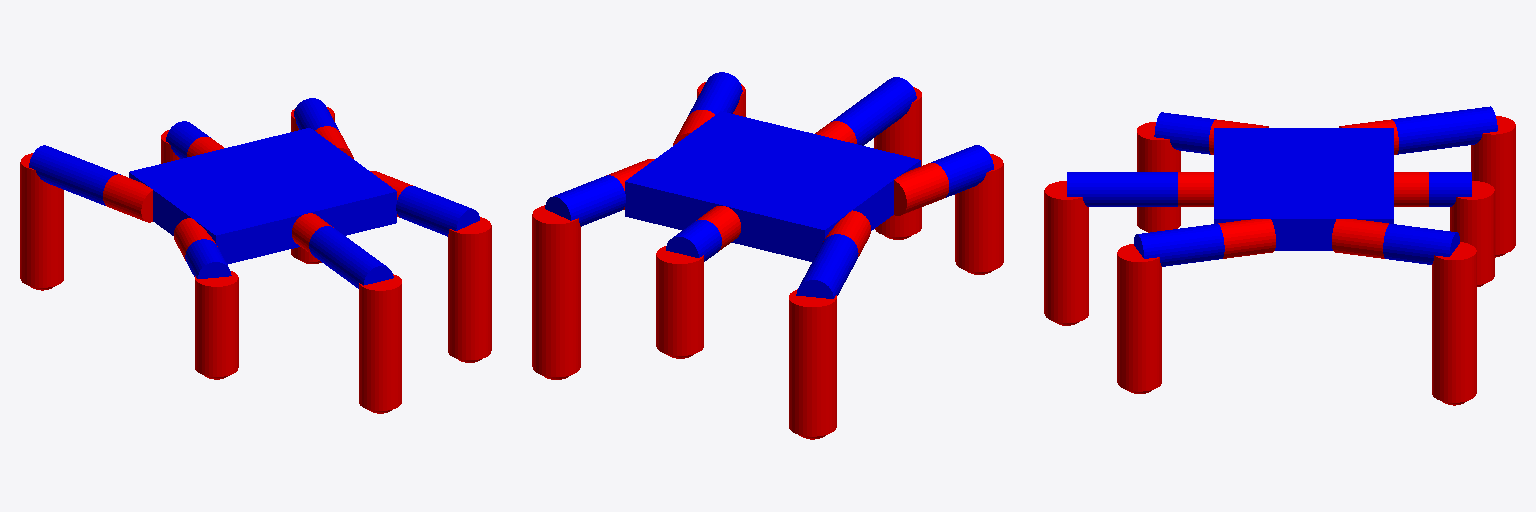
--- Facts derived from the render (not from the file) ---
The picture shows the robot from 3 angles, left to right: view 1: azimuth 30°, elevation 25°; view 2: azimuth 150°, elevation 25°; view 3: azimuth 270°, elevation 25°; orthographic projection.
Model pexod with 19 links and 18 joints (18 revolute), rooted at base_link, posed all joints at 0.
Links seen in each view (by area): view 1: base_link, leg_3_3, leg_4_3, leg_0_3, leg_5_3, leg_0_2, leg_4_2, leg_3_2, leg_0_1, leg_5_2, leg_2_2, leg_1_2 (+2 smaller); view 2: base_link, leg_2_3, leg_0_3, leg_1_3, leg_5_3, leg_4_2, leg_4_3, leg_2_2, leg_0_2, leg_5_1, leg_5_2, leg_1_2 (+5 smaller); view 3: base_link, leg_2_3, leg_3_3, leg_4_3, leg_0_3, leg_4_2, leg_0_2, leg_1_3, leg_3_2, leg_5_3, leg_2_2, leg_3_1 (+5 smaller).
Link boxes in pixels (x1,y1,x2,y2): base_link: (129,128,396,264); leg_3_3: (448,217,491,362); leg_4_3: (359,274,401,413); leg_0_3: (20,153,63,290); leg_5_3: (195,271,238,379); leg_0_2: (29,145,120,205); leg_4_2: (309,226,393,288); leg_3_2: (396,186,479,236); leg_0_1: (103,174,152,222); leg_5_2: (185,239,231,278); leg_2_2: (294,98,339,131); leg_1_2: (166,121,210,158); base_link: (625,111,920,261); leg_2_3: (532,205,580,379); leg_0_3: (789,289,836,439); leg_1_3: (656,246,703,358); leg_5_3: (955,153,1003,274); leg_4_2: (831,77,916,145); leg_4_3: (874,87,921,239); leg_2_2: (545,175,625,226); leg_0_2: (796,234,858,298); leg_5_1: (894,163,948,215); leg_5_2: (931,145,993,197); leg_1_2: (666,220,721,261); base_link: (1214,128,1393,250); leg_2_3: (1432,242,1476,405); leg_3_3: (1117,244,1161,393); leg_4_3: (1044,181,1088,325); leg_0_3: (1471,116,1515,257); leg_4_2: (1067,172,1177,206); leg_0_2: (1392,106,1497,154); leg_1_3: (1450,181,1494,286); leg_3_2: (1134,224,1224,266); leg_5_3: (1137,122,1180,232); leg_2_2: (1383,224,1459,264); leg_3_1: (1218,219,1275,258).
Size in the robot's own frame: 0.3871 by 0.5257 by 0.2078 metres.
Geometry: primitives only (box / cylinder / sphere), no mesh files.

The robot description file, URDF, robot "pexod":
<?xml version="1.0" ?>
<!-- =================================================================================== -->
<!-- |    This document was autogenerated by xacro from pexod.xacro                    | -->
<!-- |    EDITING THIS FILE BY HAND IS NOT RECOMMENDED                                 | -->
<!-- =================================================================================== -->
<robot name="pexod" xmlns:xacro="http://www.ros.org/wiki/xacro">
  <!-- <xacro:include filename="$(find pexod_description)/urdf/pexod_control.xacro" /> -->
  <!-- MATERIALS -->
  <material name="Blue">
    <color rgba="0 0 1 1"/>
  </material>
  <material name="Red">
    <color rgba="1 0 0 1"/>
  </material>
  <material name="Green">
    <color rgba="0 1 0 1"/>
  </material>
  <material name="Yellow">
    <color rgba="1 1 0 1"/>
  </material>
  <material name="LightGrey">
    <color rgba="0.6 0.6 0.6 1.0"/>
  </material>
  <!-- END OF MATERIALS -->
  <!-- XACRO MACROS FOR VISUALS AND COLLISIONS -->
  <!-- END OF XACRO MACROS -->
  <!-- TORSO -->
  <link name="base_link">
    <visual>
      <origin rpy="0 0 0" xyz="0 0 0"/>
      <geometry>
        <box size="0.24 0.2 0.04"/>
      </geometry>
      <material name="Blue"/>
    </visual>
    <collision>
      <origin rpy="0 0 0" xyz="0 0 0"/>
      <geometry>
        <box size="0.24 0.2 0.04"/>
      </geometry>
    </collision>
    <inertial>
      <!-- CENTER OF MASS -->
      <origin rpy="0 0 0" xyz="0 0 0"/>
      <mass value="1.031"/>
      <!-- box inertia: 1/12*m(y^2+z^2), ... -->
      <inertia ixx="0.00357413333333" ixy="0" ixz="0" iyy="0.00508626666667" iyz="0" izz="0.00838546666667"/>
    </inertial>
  </link>
  <!-- XACRO MACRO FOR LEGS LINKS/JOINTS -->
  <!-- END OF LEG LINKS/JOINTS -->
  <joint name="body_leg_2" type="revolute">
    <parent link="base_link"/>
    <child link="leg_2_1"/>
    <limit effort="30.0" lower="-1.57079632679" upper="1.57079632679" velocity="7.0"/>
    <origin rpy="0 0 -0.3" xyz="0.11 0.04 0"/>
    <!-- <xacro:if value="${index == 5 or index == 4 or index == 3}">
                <axis xyz="0 0 1"/>
            </xacro:if>
            <xacro:if value="${index == 2 or index == 1 or index == 0}"> -->
    <axis xyz="0 0 1"/>
    <!-- </xacro:if> -->
    <dynamics damping="0.0"/>
  </joint>
  <link name="leg_2_1">
    <visual>
      <origin rpy="1.57079632679 0 0" xyz="0.01 0.03 0"/>
      <geometry>
        <cylinder length="0.06" radius="0.02"/>
      </geometry>
      <material name="Red"/>
    </visual>
    <collision>
      <origin rpy="1.57079632679 0 0" xyz="0.01 0.03 0"/>
      <geometry>
        <box size="0.02 0.02 0.06"/>
      </geometry>
    </collision>
    <inertial>
      <!-- CENTER OF MASS -->
      <origin rpy="1.57079632679 0 0" xyz="0.01 0.03 0"/>
      <mass value="0.02"/>
      <!-- box inertia: 1/12*m(y^2+z^2), ... -->
      <inertia ixx="6.66666666667e-06" ixy="0" ixz="0" iyy="6.66666666667e-06" iyz="0" izz="1.33333333333e-06"/>
    </inertial>
  </link>
  <joint name="leg_2_1_2" type="revolute">
    <parent link="leg_2_1"/>
    <child link="leg_2_2"/>
    <limit effort="30.0" lower="-0.78539816339" upper="0.78539816339" velocity="7.0"/>
    <origin rpy="0 0 0" xyz="0 0.06 0"/>
    <axis xyz="1 0 0"/>
    <dynamics damping="0.0"/>
  </joint>
  <link name="leg_2_2">
    <visual>
      <origin rpy="1.57079632679 0 0" xyz="0.01 0.0388390807598 0"/>
      <geometry>
        <cylinder length="0.0776781615196" radius="0.02"/>
      </geometry>
      <material name="Blue"/>
    </visual>
    <collision>
      <origin rpy="1.57079632679 0 0" xyz="0.01 0.0388390807598 0"/>
      <geometry>
        <box size="0.02 0.02 0.0776781615196"/>
      </geometry>
    </collision>
    <inertial>
      <!-- CENTER OF MASS -->
      <origin rpy="1.57079632679 0 0" xyz="0.01 0.0388390807598 0"/>
      <mass value="0.184"/>
      <!-- box inertia: 1/12*m(y^2+z^2), ... -->
      <inertia ixx="9.8653083915e-05" ixy="0" ixz="0" iyy="9.8653083915e-05" iyz="0" izz="1.22666666667e-05"/>
    </inertial>
  </link>
  <joint name="leg_2_2_3" type="revolute">
    <parent link="leg_2_2"/>
    <child link="leg_2_3"/>
    <limit effort="30.0" lower="-0.78539816339" upper="0.78539816339" velocity="7.0"/>
    <origin rpy="-1.57079632679 0 0" xyz="0 0.0776781615196 0"/>
    <axis xyz="-1 0 0"/>
    <dynamics damping="0.0"/>
  </joint>
  <link name="leg_2_3">
    <visual>
      <origin rpy="1.57079632679 0 0" xyz="0.0125 0.087639620673 0"/>
      <geometry>
        <cylinder length="0.175279241346" radius="0.025"/>
      </geometry>
      <material name="Red"/>
    </visual>
    <visual>
      <origin rpy="1.57079632679 0 0" xyz="0.0125 0.162779241346 0"/>
      <geometry>
        <sphere radius="0.025"/>
      </geometry>
      <material name="Red"/>
    </visual>
    <collision>
      <origin rpy="1.57079632679 0 0" xyz="0.0125 0.087639620673 0"/>
      <geometry>
        <box size="0.025 0.025 0.175279241346"/>
      </geometry>
    </collision>
    <collision>
      <origin rpy="1.57079632679 0 0" xyz="0.0125 0.162779241346 0"/>
      <geometry>
        <sphere radius="0.025"/>
      </geometry>
      <material name="Red"/>
    </collision>
    <inertial>
      <!-- CENTER OF MASS -->
      <origin rpy="1.57079632679 0 0" xyz="0.0125 0.087639620673 0"/>
      <mass value="0.04"/>
      <!-- box inertia: 1/12*m(y^2+z^2), ... -->
      <inertia ixx="0.000104492708156" ixy="0" ixz="0" iyy="0.000104492708156" iyz="0" izz="4.16666666667e-06"/>
    </inertial>
  </link>
  <joint name="body_leg_3" type="revolute">
    <parent link="base_link"/>
    <child link="leg_3_1"/>
    <limit effort="30.0" lower="-1.57079632679" upper="1.57079632679" velocity="7.0"/>
    <origin rpy="0 0 0.3" xyz="0.11 -0.04 0"/>
    <!-- <xacro:if value="${index == 5 or index == 4 or index == 3}">
                <axis xyz="0 0 1"/>
            </xacro:if>
            <xacro:if value="${index == 2 or index == 1 or index == 0}"> -->
    <axis xyz="0 0 1"/>
    <!-- </xacro:if> -->
    <dynamics damping="0.0"/>
  </joint>
  <link name="leg_3_1">
    <visual>
      <origin rpy="1.57079632679 0 0" xyz="0.01 -0.03 0"/>
      <geometry>
        <cylinder length="0.06" radius="0.02"/>
      </geometry>
      <material name="Red"/>
    </visual>
    <collision>
      <origin rpy="1.57079632679 0 0" xyz="0.01 -0.03 0"/>
      <geometry>
        <box size="0.02 0.02 0.06"/>
      </geometry>
    </collision>
    <inertial>
      <!-- CENTER OF MASS -->
      <origin rpy="1.57079632679 0 0" xyz="0.01 -0.03 0"/>
      <mass value="0.02"/>
      <!-- box inertia: 1/12*m(y^2+z^2), ... -->
      <inertia ixx="6.66666666667e-06" ixy="0" ixz="0" iyy="6.66666666667e-06" iyz="0" izz="1.33333333333e-06"/>
    </inertial>
  </link>
  <joint name="leg_3_1_2" type="revolute">
    <parent link="leg_3_1"/>
    <child link="leg_3_2"/>
    <limit effort="30.0" lower="-0.78539816339" upper="0.78539816339" velocity="7.0"/>
    <origin rpy="0 0 0" xyz="0 -0.06 0"/>
    <axis xyz="-1 0 0"/>
    <dynamics damping="0.0"/>
  </joint>
  <link name="leg_3_2">
    <visual>
      <origin rpy="1.57079632679 0 0" xyz="0.01 -0.0469413150015 0"/>
      <geometry>
        <cylinder length="0.093882630003" radius="0.02"/>
      </geometry>
      <material name="Blue"/>
    </visual>
    <collision>
      <origin rpy="1.57079632679 0 0" xyz="0.01 -0.0469413150015 0"/>
      <geometry>
        <box size="0.02 0.02 0.093882630003"/>
      </geometry>
    </collision>
    <inertial>
      <!-- CENTER OF MASS -->
      <origin rpy="1.57079632679 0 0" xyz="0.01 -0.0469413150015 0"/>
      <mass value="0.184"/>
      <!-- box inertia: 1/12*m(y^2+z^2), ... -->
      <inertia ixx="0.000141280539316" ixy="0" ixz="0" iyy="0.000141280539316" iyz="0" izz="1.22666666667e-05"/>
    </inertial>
  </link>
  <joint name="leg_3_2_3" type="revolute">
    <parent link="leg_3_2"/>
    <child link="leg_3_3"/>
    <limit effort="30.0" lower="-0.78539816339" upper="0.78539816339" velocity="7.0"/>
    <origin rpy="1.57079632679 0 0" xyz="0 -0.093882630003 0"/>
    <axis xyz="1 0 0"/>
    <dynamics damping="0.0"/>
  </joint>
  <link name="leg_3_3">
    <visual>
      <origin rpy="1.57079632679 0 0" xyz="0.0125 -0.0796496285935 0"/>
      <geometry>
        <cylinder length="0.159299257187" radius="0.025"/>
      </geometry>
      <material name="Red"/>
    </visual>
    <visual>
      <origin rpy="1.57079632679 0 0" xyz="0.0125 -0.146799257187 0"/>
      <geometry>
        <sphere radius="0.025"/>
      </geometry>
      <material name="Red"/>
    </visual>
    <collision>
      <origin rpy="1.57079632679 0 0" xyz="0.0125 -0.0796496285935 0"/>
      <geometry>
        <box size="0.025 0.025 0.159299257187"/>
      </geometry>
    </collision>
    <collision>
      <origin rpy="1.57079632679 0 0" xyz="0.0125 -0.146799257187 0"/>
      <geometry>
        <sphere radius="0.025"/>
      </geometry>
      <material name="Red"/>
    </collision>
    <inertial>
      <!-- CENTER OF MASS -->
      <origin rpy="1.57079632679 0 0" xyz="0.0125 -0.0796496285935 0"/>
      <mass value="0.04"/>
      <!-- box inertia: 1/12*m(y^2+z^2), ... -->
      <inertia ixx="8.66708444678e-05" ixy="0" ixz="0" iyy="8.66708444678e-05" iyz="0" izz="4.16666666667e-06"/>
    </inertial>
  </link>
  <joint name="body_leg_0" type="revolute">
    <parent link="base_link"/>
    <child link="leg_0_1"/>
    <limit effort="30.0" lower="-1.57079632679" upper="1.57079632679" velocity="7.0"/>
    <origin rpy="0 0 0.3" xyz="-0.13 0.04 0"/>
    <!-- <xacro:if value="${index == 5 or index == 4 or index == 3}">
                <axis xyz="0 0 1"/>
            </xacro:if>
            <xacro:if value="${index == 2 or index == 1 or index == 0}"> -->
    <axis xyz="0 0 1"/>
    <!-- </xacro:if> -->
    <dynamics damping="0.0"/>
  </joint>
  <link name="leg_0_1">
    <visual>
      <origin rpy="1.57079632679 0 0" xyz="0.01 0.03 0"/>
      <geometry>
        <cylinder length="0.06" radius="0.02"/>
      </geometry>
      <material name="Red"/>
    </visual>
    <collision>
      <origin rpy="1.57079632679 0 0" xyz="0.01 0.03 0"/>
      <geometry>
        <box size="0.02 0.02 0.06"/>
      </geometry>
    </collision>
    <inertial>
      <!-- CENTER OF MASS -->
      <origin rpy="1.57079632679 0 0" xyz="0.01 0.03 0"/>
      <mass value="0.02"/>
      <!-- box inertia: 1/12*m(y^2+z^2), ... -->
      <inertia ixx="6.66666666667e-06" ixy="0" ixz="0" iyy="6.66666666667e-06" iyz="0" izz="1.33333333333e-06"/>
    </inertial>
  </link>
  <joint name="leg_0_1_2" type="revolute">
    <parent link="leg_0_1"/>
    <child link="leg_0_2"/>
    <limit effort="30.0" lower="-0.78539816339" upper="0.78539816339" velocity="7.0"/>
    <origin rpy="0 0 0" xyz="0 0.06 0"/>
    <axis xyz="1 0 0"/>
    <dynamics damping="0.0"/>
  </joint>
  <link name="leg_0_2">
    <visual>
      <origin rpy="1.57079632679 0 0" xyz="0.01 0.0577083346515 0"/>
      <geometry>
        <cylinder length="0.115416669303" radius="0.02"/>
      </geometry>
      <material name="Blue"/>
    </visual>
    <collision>
      <origin rpy="1.57079632679 0 0" xyz="0.01 0.0577083346515 0"/>
      <geometry>
        <box size="0.02 0.02 0.115416669303"/>
      </geometry>
    </collision>
    <inertial>
      <!-- CENTER OF MASS -->
      <origin rpy="1.57079632679 0 0" xyz="0.01 0.0577083346515 0"/>
      <mass value="0.184"/>
      <!-- box inertia: 1/12*m(y^2+z^2), ... -->
      <inertia ixx="0.000210388782479" ixy="0" ixz="0" iyy="0.000210388782479" iyz="0" izz="1.22666666667e-05"/>
    </inertial>
  </link>
  <joint name="leg_0_2_3" type="revolute">
    <parent link="leg_0_2"/>
    <child link="leg_0_3"/>
    <limit effort="30.0" lower="-0.78539816339" upper="0.78539816339" velocity="7.0"/>
    <origin rpy="-1.57079632679 0 0" xyz="0 0.115416669303 0"/>
    <axis xyz="-1 0 0"/>
    <dynamics damping="0.0"/>
  </joint>
  <link name="leg_0_3">
    <visual>
      <origin rpy="1.57079632679 0 0" xyz="0.0125 0.0741244045095 0"/>
      <geometry>
        <cylinder length="0.148248809019" radius="0.025"/>
      </geometry>
      <material name="Red"/>
    </visual>
    <visual>
      <origin rpy="1.57079632679 0 0" xyz="0.0125 0.135748809019 0"/>
      <geometry>
        <sphere radius="0.025"/>
      </geometry>
      <material name="Red"/>
    </visual>
    <collision>
      <origin rpy="1.57079632679 0 0" xyz="0.0125 0.0741244045095 0"/>
      <geometry>
        <box size="0.025 0.025 0.148248809019"/>
      </geometry>
    </collision>
    <collision>
      <origin rpy="1.57079632679 0 0" xyz="0.0125 0.135748809019 0"/>
      <geometry>
        <sphere radius="0.025"/>
      </geometry>
      <material name="Red"/>
    </collision>
    <inertial>
      <!-- CENTER OF MASS -->
      <origin rpy="1.57079632679 0 0" xyz="0.0125 0.0741244045095 0"/>
      <mass value="0.04"/>
      <!-- box inertia: 1/12*m(y^2+z^2), ... -->
      <inertia ixx="7.53423645852e-05" ixy="0" ixz="0" iyy="7.53423645852e-05" iyz="0" izz="4.16666666667e-06"/>
    </inertial>
  </link>
  <joint name="body_leg_5" type="revolute">
    <parent link="base_link"/>
    <child link="leg_5_1"/>
    <limit effort="30.0" lower="-1.57079632679" upper="1.57079632679" velocity="7.0"/>
    <origin rpy="0 0 -0.3" xyz="-0.13 -0.04 0"/>
    <!-- <xacro:if value="${index == 5 or index == 4 or index == 3}">
                <axis xyz="0 0 1"/>
            </xacro:if>
            <xacro:if value="${index == 2 or index == 1 or index == 0}"> -->
    <axis xyz="0 0 1"/>
    <!-- </xacro:if> -->
    <dynamics damping="0.0"/>
  </joint>
  <link name="leg_5_1">
    <visual>
      <origin rpy="1.57079632679 0 0" xyz="0.01 -0.03 0"/>
      <geometry>
        <cylinder length="0.06" radius="0.02"/>
      </geometry>
      <material name="Red"/>
    </visual>
    <collision>
      <origin rpy="1.57079632679 0 0" xyz="0.01 -0.03 0"/>
      <geometry>
        <box size="0.02 0.02 0.06"/>
      </geometry>
    </collision>
    <inertial>
      <!-- CENTER OF MASS -->
      <origin rpy="1.57079632679 0 0" xyz="0.01 -0.03 0"/>
      <mass value="0.02"/>
      <!-- box inertia: 1/12*m(y^2+z^2), ... -->
      <inertia ixx="6.66666666667e-06" ixy="0" ixz="0" iyy="6.66666666667e-06" iyz="0" izz="1.33333333333e-06"/>
    </inertial>
  </link>
  <joint name="leg_5_1_2" type="revolute">
    <parent link="leg_5_1"/>
    <child link="leg_5_2"/>
    <limit effort="30.0" lower="-0.78539816339" upper="0.78539816339" velocity="7.0"/>
    <origin rpy="0 0 0" xyz="0 -0.06 0"/>
    <axis xyz="-1 0 0"/>
    <dynamics damping="0.0"/>
  </joint>
  <link name="leg_5_2">
    <visual>
      <origin rpy="1.57079632679 0 0" xyz="0.01 -0.0317370594175 0"/>
      <geometry>
        <cylinder length="0.063474118835" radius="0.02"/>
      </geometry>
      <material name="Blue"/>
    </visual>
    <collision>
      <origin rpy="1.57079632679 0 0" xyz="0.01 -0.0317370594175 0"/>
      <geometry>
        <box size="0.02 0.02 0.063474118835"/>
      </geometry>
    </collision>
    <inertial>
      <!-- CENTER OF MASS -->
      <origin rpy="1.57079632679 0 0" xyz="0.01 -0.0317370594175 0"/>
      <mass value="0.184"/>
      <!-- box inertia: 1/12*m(y^2+z^2), ... -->
      <inertia ixx="6.79107776822e-05" ixy="0" ixz="0" iyy="6.79107776822e-05" iyz="0" izz="1.22666666667e-05"/>
    </inertial>
  </link>
  <joint name="leg_5_2_3" type="revolute">
    <parent link="leg_5_2"/>
    <child link="leg_5_3"/>
    <limit effort="30.0" lower="-0.78539816339" upper="0.78539816339" velocity="7.0"/>
    <origin rpy="1.57079632679 0 0" xyz="0 -0.063474118835 0"/>
    <axis xyz="1 0 0"/>
    <dynamics damping="0.0"/>
  </joint>
  <link name="leg_5_3">
    <visual>
      <origin rpy="1.57079632679 0 0" xyz="0.0125 -0.056975526715 0"/>
      <geometry>
        <cylinder length="0.11395105343" radius="0.025"/>
      </geometry>
      <material name="Red"/>
    </visual>
    <visual>
      <origin rpy="1.57079632679 0 0" xyz="0.0125 -0.10145105343 0"/>
      <geometry>
        <sphere radius="0.025"/>
      </geometry>
      <material name="Red"/>
    </visual>
    <collision>
      <origin rpy="1.57079632679 0 0" xyz="0.0125 -0.056975526715 0"/>
      <geometry>
        <box size="0.025 0.025 0.11395105343"/>
      </geometry>
    </collision>
    <collision>
      <origin rpy="1.57079632679 0 0" xyz="0.0125 -0.10145105343 0"/>
      <geometry>
        <sphere radius="0.025"/>
      </geometry>
      <material name="Red"/>
    </collision>
    <inertial>
      <!-- CENTER OF MASS -->
      <origin rpy="1.57079632679 0 0" xyz="0.0125 -0.056975526715 0"/>
      <mass value="0.04"/>
      <!-- box inertia: 1/12*m(y^2+z^2), ... -->
      <inertia ixx="4.5366141926e-05" ixy="0" ixz="0" iyy="4.5366141926e-05" iyz="0" izz="4.16666666667e-06"/>
    </inertial>
  </link>
  <joint name="body_leg_1" type="revolute">
    <parent link="base_link"/>
    <child link="leg_1_1"/>
    <limit effort="30.0" lower="-1.57079632679" upper="1.57079632679" velocity="7.0"/>
    <origin rpy="0 0 0" xyz="-0.01 0.08 0"/>
    <!-- <xacro:if value="${index == 5 or index == 4 or index == 3}">
                <axis xyz="0 0 1"/>
            </xacro:if>
            <xacro:if value="${index == 2 or index == 1 or index == 0}"> -->
    <axis xyz="0 0 1"/>
    <!-- </xacro:if> -->
    <dynamics damping="0.0"/>
  </joint>
  <link name="leg_1_1">
    <visual>
      <origin rpy="1.57079632679 0 0" xyz="0.01 0.03 0"/>
      <geometry>
        <cylinder length="0.06" radius="0.02"/>
      </geometry>
      <material name="Red"/>
    </visual>
    <collision>
      <origin rpy="1.57079632679 0 0" xyz="0.01 0.03 0"/>
      <geometry>
        <box size="0.02 0.02 0.06"/>
      </geometry>
    </collision>
    <inertial>
      <!-- CENTER OF MASS -->
      <origin rpy="1.57079632679 0 0" xyz="0.01 0.03 0"/>
      <mass value="0.02"/>
      <!-- box inertia: 1/12*m(y^2+z^2), ... -->
      <inertia ixx="6.66666666667e-06" ixy="0" ixz="0" iyy="6.66666666667e-06" iyz="0" izz="1.33333333333e-06"/>
    </inertial>
  </link>
  <joint name="leg_1_1_2" type="revolute">
    <parent link="leg_1_1"/>
    <child link="leg_1_2"/>
    <limit effort="30.0" lower="-0.78539816339" upper="0.78539816339" velocity="7.0"/>
    <origin rpy="0 0 0" xyz="0 0.06 0"/>
    <axis xyz="1 0 0"/>
    <dynamics damping="0.0"/>
  </joint>
  <link name="leg_1_2">
    <visual>
      <origin rpy="1.57079632679 0 0" xyz="0.01 0.0239920831274 0"/>
      <geometry>
        <cylinder length="0.0479841662549" radius="0.02"/>
      </geometry>
      <material name="Blue"/>
    </visual>
    <collision>
      <origin rpy="1.57079632679 0 0" xyz="0.01 0.0239920831274 0"/>
      <geometry>
        <box size="0.02 0.02 0.0479841662549"/>
      </geometry>
    </collision>
    <inertial>
      <!-- CENTER OF MASS -->
      <origin rpy="1.57079632679 0 0" xyz="0.01 0.0239920831274 0"/>
      <mass value="0.184"/>
      <!-- box inertia: 1/12*m(y^2+z^2), ... -->
      <inertia ixx="4.14380299047e-05" ixy="0" ixz="0" iyy="4.14380299047e-05" iyz="0" izz="1.22666666667e-05"/>
    </inertial>
  </link>
  <joint name="leg_1_2_3" type="revolute">
    <parent link="leg_1_2"/>
    <child link="leg_1_3"/>
    <limit effort="30.0" lower="-0.78539816339" upper="0.78539816339" velocity="7.0"/>
    <origin rpy="-1.57079632679 0 0" xyz="0 0.0479841662549 0"/>
    <axis xyz="-1 0 0"/>
    <dynamics damping="0.0"/>
  </joint>
  <link name="leg_1_3">
    <visual>
      <origin rpy="1.57079632679 0 0" xyz="0.0125 0.0526804201825 0"/>
      <geometry>
        <cylinder length="0.105360840365" radius="0.025"/>
      </geometry>
      <material name="Red"/>
    </visual>
    <visual>
      <origin rpy="1.57079632679 0 0" xyz="0.0125 0.092860840365 0"/>
      <geometry>
        <sphere radius="0.025"/>
      </geometry>
      <material name="Red"/>
    </visual>
    <collision>
      <origin rpy="1.57079632679 0 0" xyz="0.0125 0.0526804201825 0"/>
      <geometry>
        <box size="0.025 0.025 0.105360840365"/>
      </geometry>
    </collision>
    <collision>
      <origin rpy="1.57079632679 0 0" xyz="0.0125 0.092860840365 0"/>
      <geometry>
        <sphere radius="0.025"/>
      </geometry>
      <material name="Red"/>
    </collision>
    <inertial>
      <!-- CENTER OF MASS -->
      <origin rpy="1.57079632679 0 0" xyz="0.0125 0.0526804201825 0"/>
      <mass value="0.04"/>
      <!-- box inertia: 1/12*m(y^2+z^2), ... -->
      <inertia ixx="3.90863556081e-05" ixy="0" ixz="0" iyy="3.90863556081e-05" iyz="0" izz="4.16666666667e-06"/>
    </inertial>
  </link>
  <joint name="body_leg_4" type="revolute">
    <parent link="base_link"/>
    <child link="leg_4_1"/>
    <limit effort="30.0" lower="-1.57079632679" upper="1.57079632679" velocity="7.0"/>
    <origin rpy="0 0 0" xyz="-0.01 -0.08 0"/>
    <!-- <xacro:if value="${index == 5 or index == 4 or index == 3}">
                <axis xyz="0 0 1"/>
            </xacro:if>
            <xacro:if value="${index == 2 or index == 1 or index == 0}"> -->
    <axis xyz="0 0 1"/>
    <!-- </xacro:if> -->
    <dynamics damping="0.0"/>
  </joint>
  <link name="leg_4_1">
    <visual>
      <origin rpy="1.57079632679 0 0" xyz="0.01 -0.03 0"/>
      <geometry>
        <cylinder length="0.06" radius="0.02"/>
      </geometry>
      <material name="Red"/>
    </visual>
    <collision>
      <origin rpy="1.57079632679 0 0" xyz="0.01 -0.03 0"/>
      <geometry>
        <box size="0.02 0.02 0.06"/>
      </geometry>
    </collision>
    <inertial>
      <!-- CENTER OF MASS -->
      <origin rpy="1.57079632679 0 0" xyz="0.01 -0.03 0"/>
      <mass value="0.02"/>
      <!-- box inertia: 1/12*m(y^2+z^2), ... -->
      <inertia ixx="6.66666666667e-06" ixy="0" ixz="0" iyy="6.66666666667e-06" iyz="0" izz="1.33333333333e-06"/>
    </inertial>
  </link>
  <joint name="leg_4_1_2" type="revolute">
    <parent link="leg_4_1"/>
    <child link="leg_4_2"/>
    <limit effort="30.0" lower="-0.78539816339" upper="0.78539816339" velocity="7.0"/>
    <origin rpy="0 0 0" xyz="0 -0.06 0"/>
    <axis xyz="-1 0 0"/>
    <dynamics damping="0.0"/>
  </joint>
  <link name="leg_4_2">
    <visual>
      <origin rpy="1.57079632679 0 0" xyz="0.01 -0.062270479705 0"/>
      <geometry>
        <cylinder length="0.12454095941" radius="0.02"/>
      </geometry>
      <material name="Blue"/>
    </visual>
    <collision>
      <origin rpy="1.57079632679 0 0" xyz="0.01 -0.062270479705 0"/>
      <geometry>
        <box size="0.02 0.02 0.12454095941"/>
      </geometry>
    </collision>
    <inertial>
      <!-- CENTER OF MASS -->
      <origin rpy="1.57079632679 0 0" xyz="0.01 -0.062270479705 0"/>
      <mass value="0.184"/>
      <!-- box inertia: 1/12*m(y^2+z^2), ... -->
      <inertia ixx="0.000243960242085" ixy="0" ixz="0" iyy="0.000243960242085" iyz="0" izz="1.22666666667e-05"/>
    </inertial>
  </link>
  <joint name="leg_4_2_3" type="revolute">
    <parent link="leg_4_2"/>
    <child link="leg_4_3"/>
    <limit effort="30.0" lower="-0.78539816339" upper="0.78539816339" velocity="7.0"/>
    <origin rpy="1.57079632679 0 0" xyz="0 -0.12454095941 0"/>
    <axis xyz="1 0 0"/>
    <dynamics damping="0.0"/>
  </joint>
  <link name="leg_4_3">
    <visual>
      <origin rpy="1.57079632679 0 0" xyz="0.0125 -0.07600264949 0"/>
      <geometry>
        <cylinder length="0.15200529898" radius="0.025"/>
      </geometry>
      <material name="Red"/>
    </visual>
    <visual>
      <origin rpy="1.57079632679 0 0" xyz="0.0125 -0.13950529898 0"/>
      <geometry>
        <sphere radius="0.025"/>
      </geometry>
      <material name="Red"/>
    </visual>
    <collision>
      <origin rpy="1.57079632679 0 0" xyz="0.0125 -0.07600264949 0"/>
      <geometry>
        <box size="0.025 0.025 0.15200529898"/>
      </geometry>
    </collision>
    <collision>
      <origin rpy="1.57079632679 0 0" xyz="0.0125 -0.13950529898 0"/>
      <geometry>
        <sphere radius="0.025"/>
      </geometry>
      <material name="Red"/>
    </collision>
    <inertial>
      <!-- CENTER OF MASS -->
      <origin rpy="1.57079632679 0 0" xyz="0.0125 -0.07600264949 0"/>
      <mass value="0.04"/>
      <!-- box inertia: 1/12*m(y^2+z^2), ... -->
      <inertia ixx="7.91020363933e-05" ixy="0" ixz="0" iyy="7.91020363933e-05" iyz="0" izz="4.16666666667e-06"/>
    </inertial>
  </link>
  <!-- END OF LEG LINKS/JOINTS -->
</robot>
